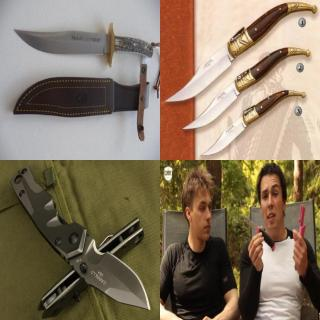knife: (75, 242, 151, 312), (9, 25, 111, 61), (163, 48, 229, 102), (181, 88, 235, 130), (240, 211, 278, 255), (199, 128, 243, 158)
